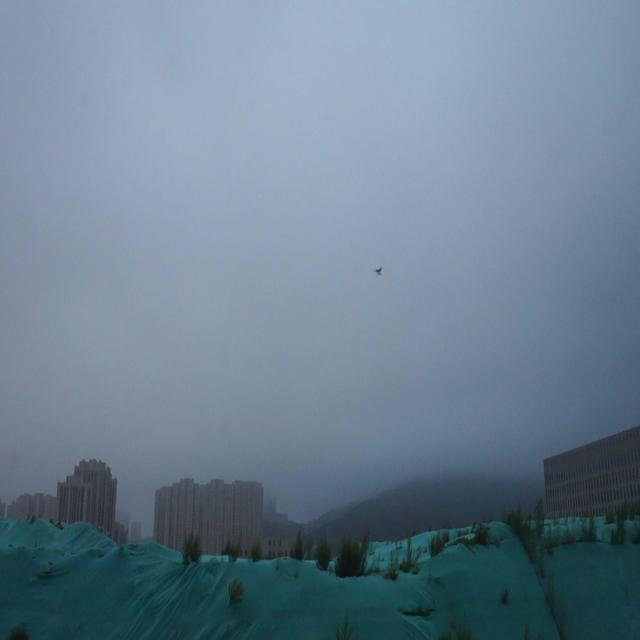UAV: (374, 266, 383, 276)
